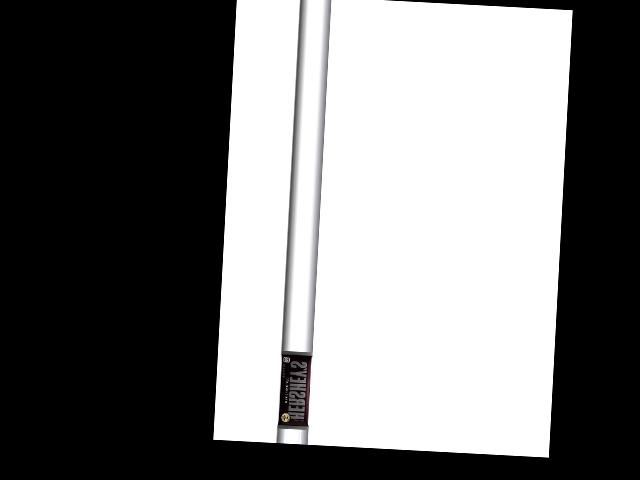chocolate: (273, 350, 311, 428)
